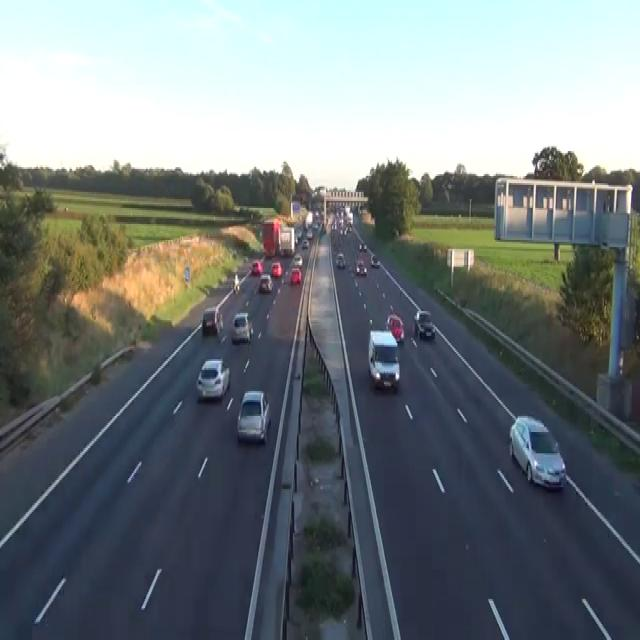Car: (509, 414, 566, 491), (367, 329, 400, 389), (236, 389, 270, 443), (196, 357, 230, 400), (230, 311, 253, 343), (413, 309, 435, 338), (202, 306, 223, 334), (385, 313, 404, 343), (258, 274, 272, 293), (290, 266, 301, 284), (355, 260, 367, 276), (271, 262, 282, 278), (251, 260, 263, 274), (335, 252, 345, 268), (292, 252, 303, 266), (232, 274, 240, 293), (295, 226, 302, 243), (370, 254, 379, 267), (312, 220, 320, 230), (301, 238, 308, 249), (230, 247, 237, 258), (358, 242, 367, 250), (306, 228, 312, 238), (340, 226, 347, 234), (331, 220, 336, 230), (295, 233, 298, 243)
Truck: (262, 218, 295, 258), (278, 226, 295, 256)
